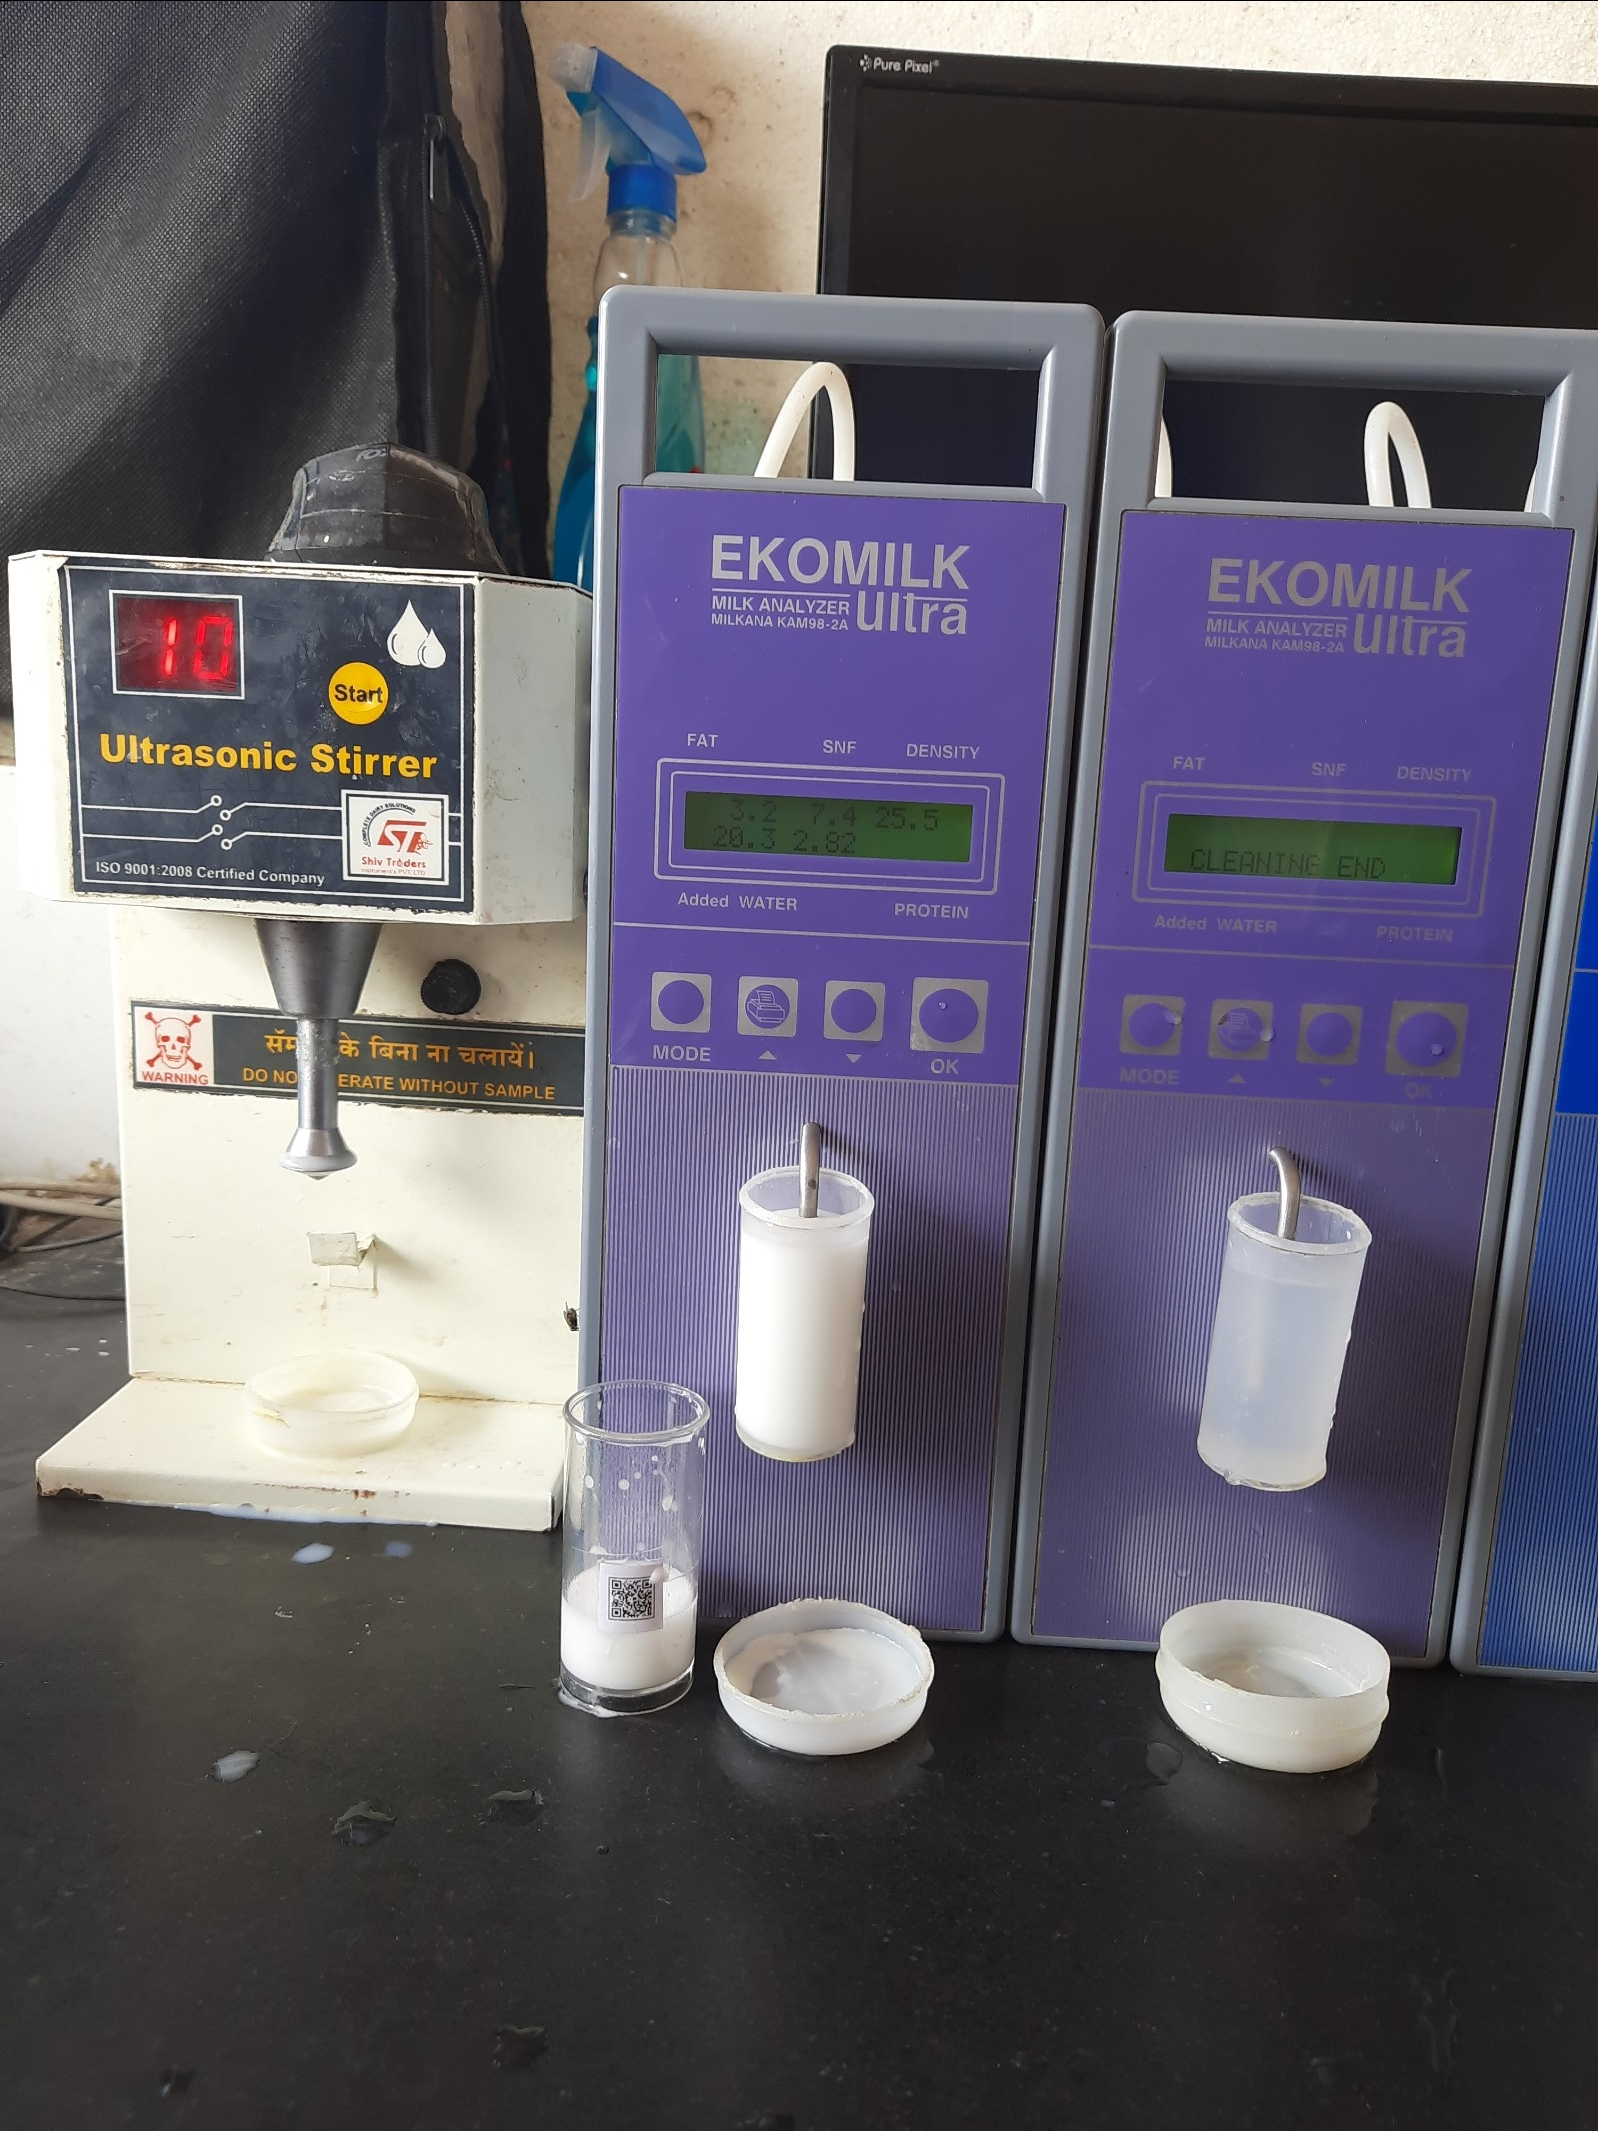lcd: (676, 780, 994, 888), (1145, 804, 1480, 899)
qr: (593, 1559, 676, 1629)
